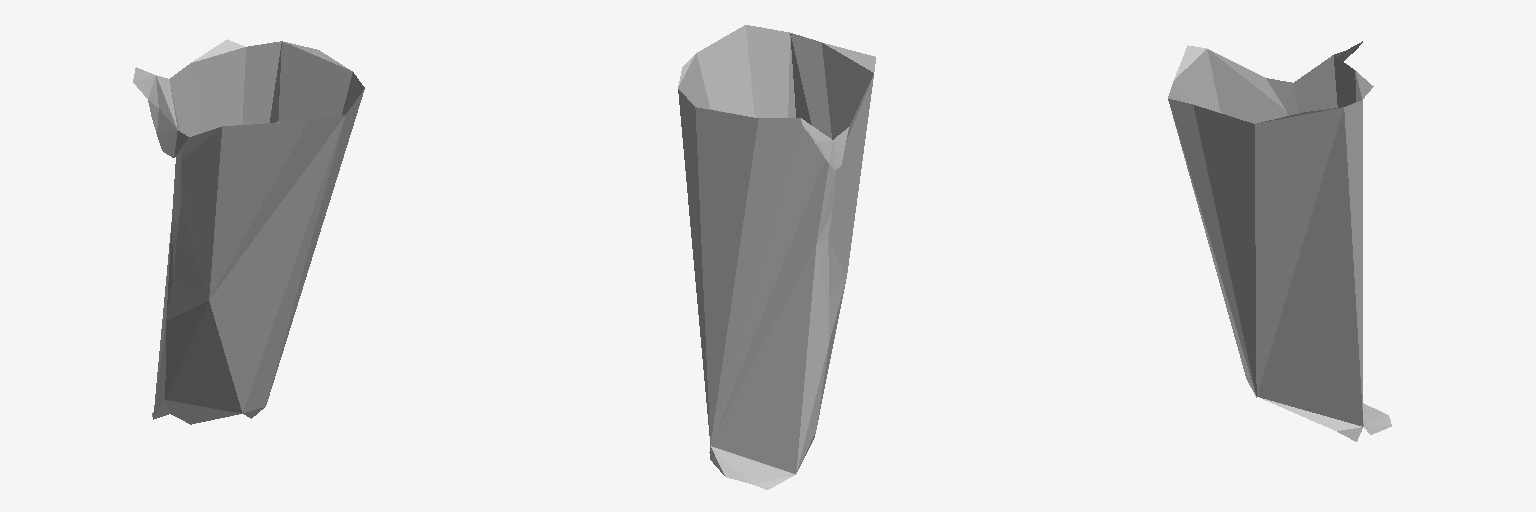
The model's file is muslo1.obj.
3 renders of one model, left to right at view 1: azimuth 30°, elevation 25°; view 2: azimuth 150°, elevation 25°; view 3: azimuth 270°, elevation 25°, orthographic.
Parts seen in each view (by area): view 1: muslo1:Humano_01Business_01_30K_; view 2: muslo1:Humano_01Business_01_30K_; view 3: muslo1:Humano_01Business_01_30K_.
Part boxes in pixels (x1,y1,x2,y2): muslo1:Humano_01Business_01_30K_: (133, 39, 364, 424); muslo1:Humano_01Business_01_30K_: (678, 25, 875, 489); muslo1:Humano_01Business_01_30K_: (1168, 41, 1391, 441).
Bounding box in the file's own units: 0.1105 × 0.2299 × 0.1274.